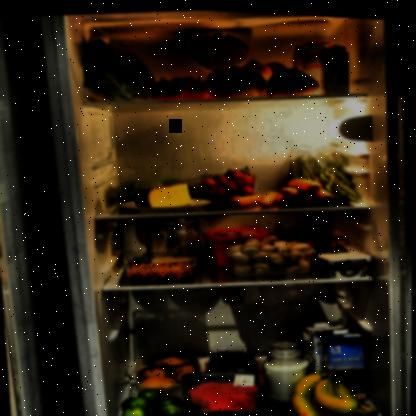apple: (117, 170, 194, 204)
banana: (288, 360, 385, 415)
blueberries: (210, 342, 259, 373)
butter: (203, 219, 273, 268)
carrot: (276, 170, 339, 207), (228, 187, 276, 209)
cheese: (130, 177, 199, 211)
corn: (306, 230, 338, 261)
green_beans: (284, 134, 358, 205)
ground_beef: (186, 370, 264, 415)
heavy_cream: (319, 39, 354, 92)
lime: (121, 382, 189, 415)
milk: (322, 321, 373, 403), (303, 314, 351, 390)
mushrooms: (222, 227, 318, 277)
onion: (239, 54, 289, 80)
potato: (136, 346, 203, 392)
shrimp: (125, 257, 201, 280)
spinach: (79, 21, 159, 106)
strawberries: (198, 164, 258, 204)
sweet_potato: (207, 54, 319, 104)
tomato: (149, 71, 219, 103)
